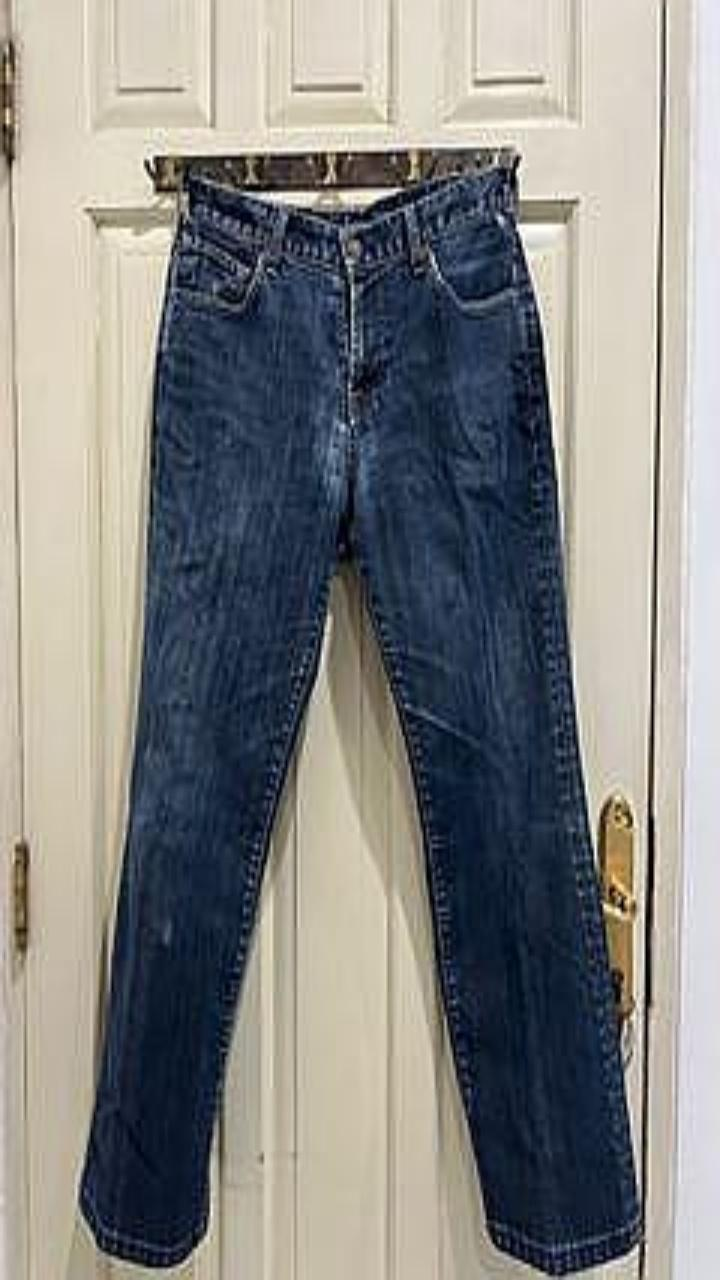Jeans: (79, 164, 642, 1274)
